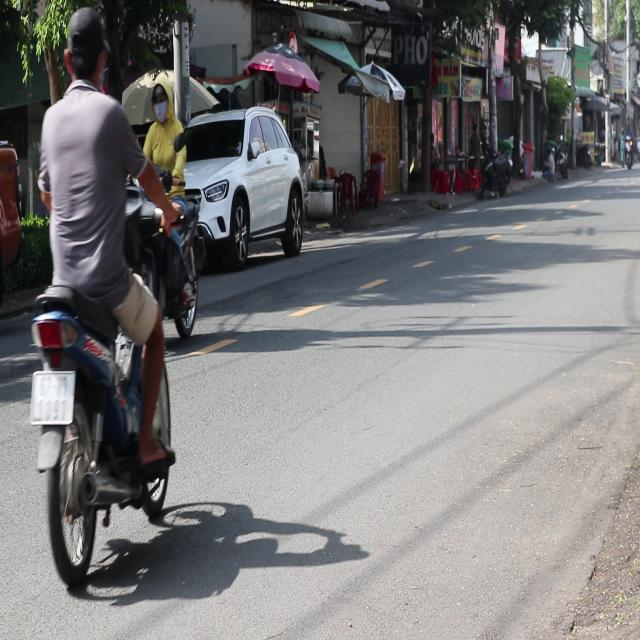helmet: (150, 74, 172, 122)
licenseplate: (22, 5, 184, 590), (136, 72, 201, 344)
motorcyclist: (64, 6, 108, 90)
nohelmet: (30, 372, 74, 423)
